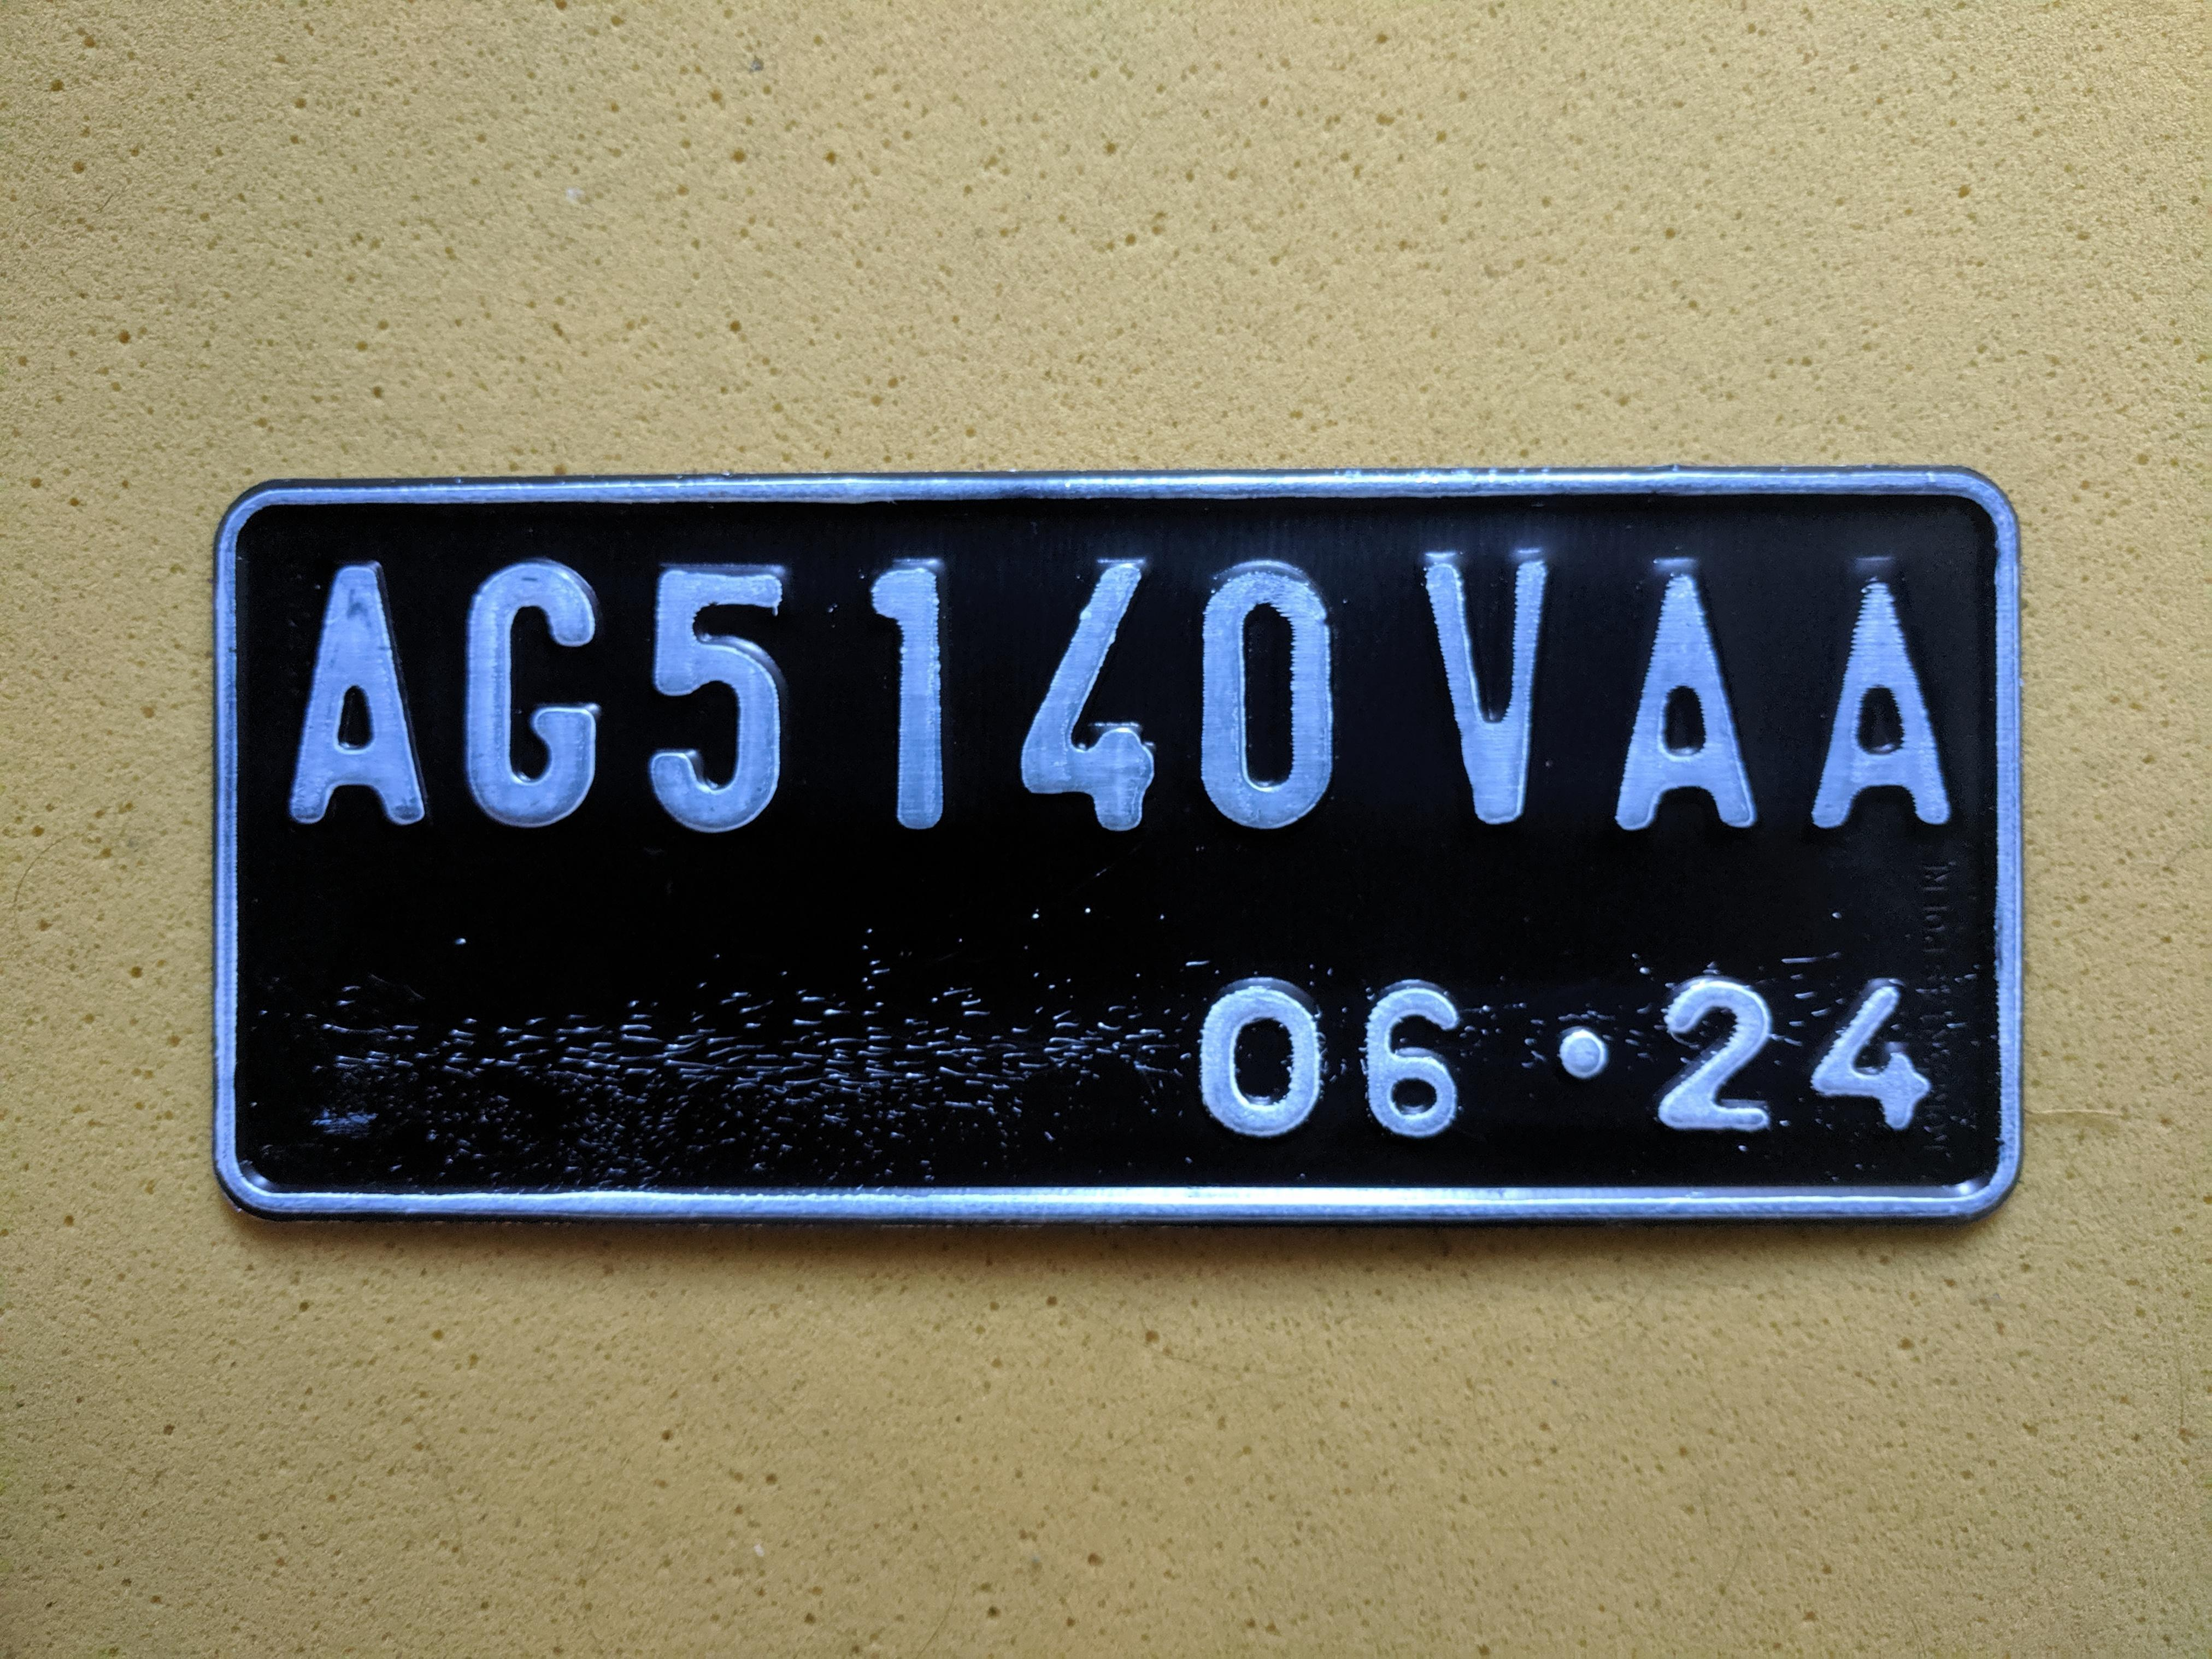0: (1172, 544, 1353, 834)
1: (849, 544, 962, 834)
4: (1004, 544, 1173, 834)
5: (622, 548, 797, 834)
A: (1778, 536, 1959, 837), (1594, 539, 1778, 837), (264, 548, 447, 831)
G: (446, 548, 621, 830)
V: (1414, 537, 1575, 834)
